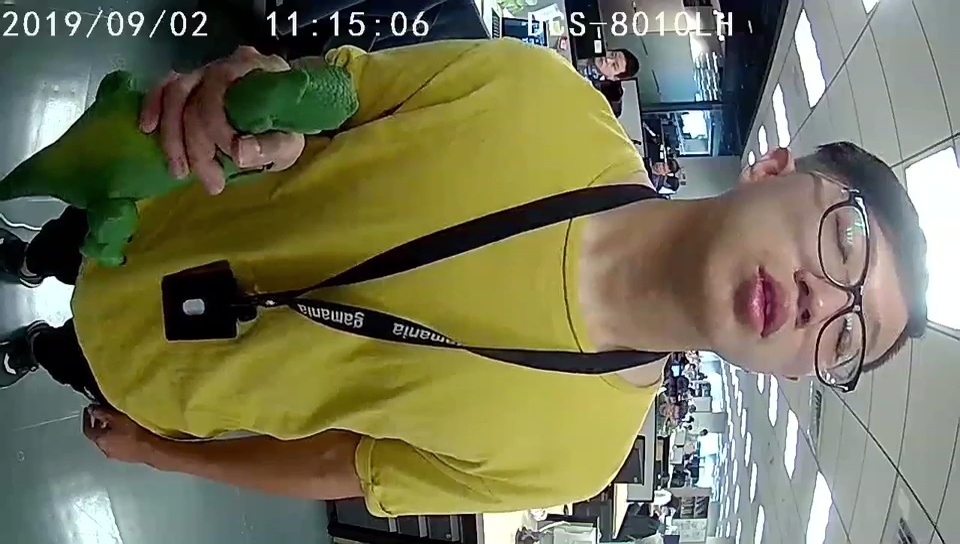rex: (70, 65, 359, 268)
